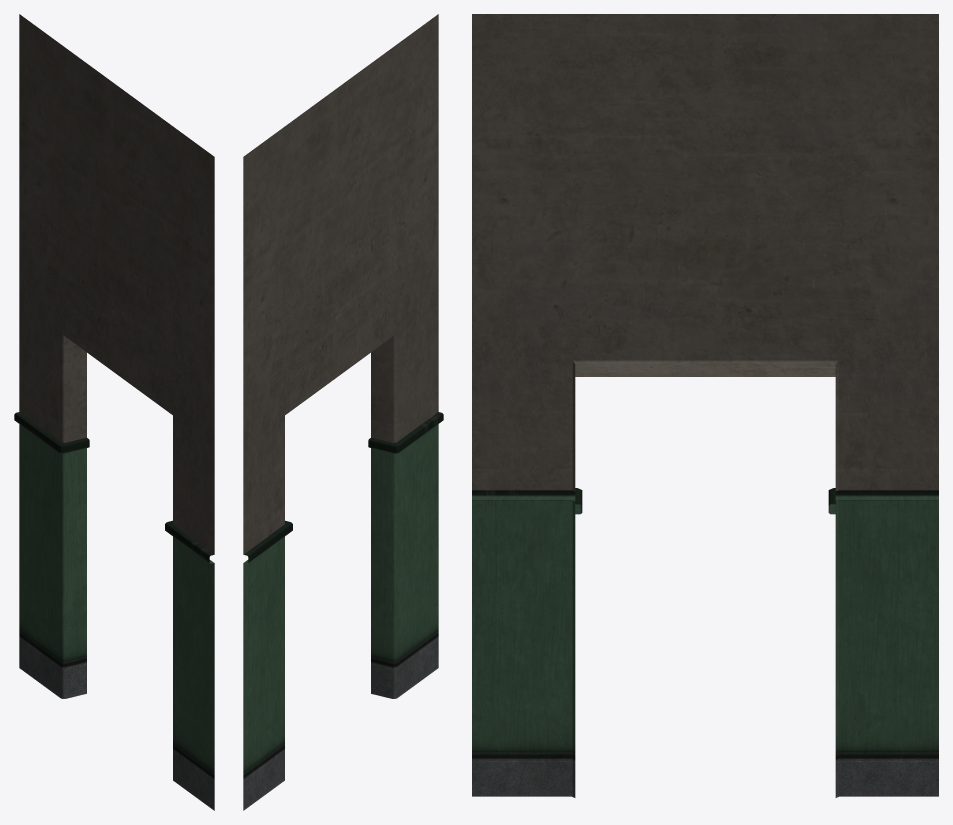
The model's file is Psychiatric_Ward_Infirmary_Wall_2m_Door_Bare.glb.
3 renders of one model, left to right at view 1: azimuth 30°, elevation 25°; view 2: azimuth 150°, elevation 25°; view 3: azimuth 270°, elevation 25°, orthographic. The views are drawn at different scales.
Visible parts, largest first — view 1: Psychiatric_Ward_Infirmary_Wall_2m_Door_Bare; view 2: Psychiatric_Ward_Infirmary_Wall_2m_Door_Bare; view 3: Psychiatric_Ward_Infirmary_Wall_2m_Door_Bare.
Part boxes in pixels (x1,y1,x2,y2): Psychiatric_Ward_Infirmary_Wall_2m_Door_Bare: [14, 14, 214, 810]; Psychiatric_Ward_Infirmary_Wall_2m_Door_Bare: [243, 14, 443, 810]; Psychiatric_Ward_Infirmary_Wall_2m_Door_Bare: [472, 14, 938, 797].
Size of the model in its own units: 0.1737 by 3.7 by 2.
Materials: 2 (2 with a texture image).
